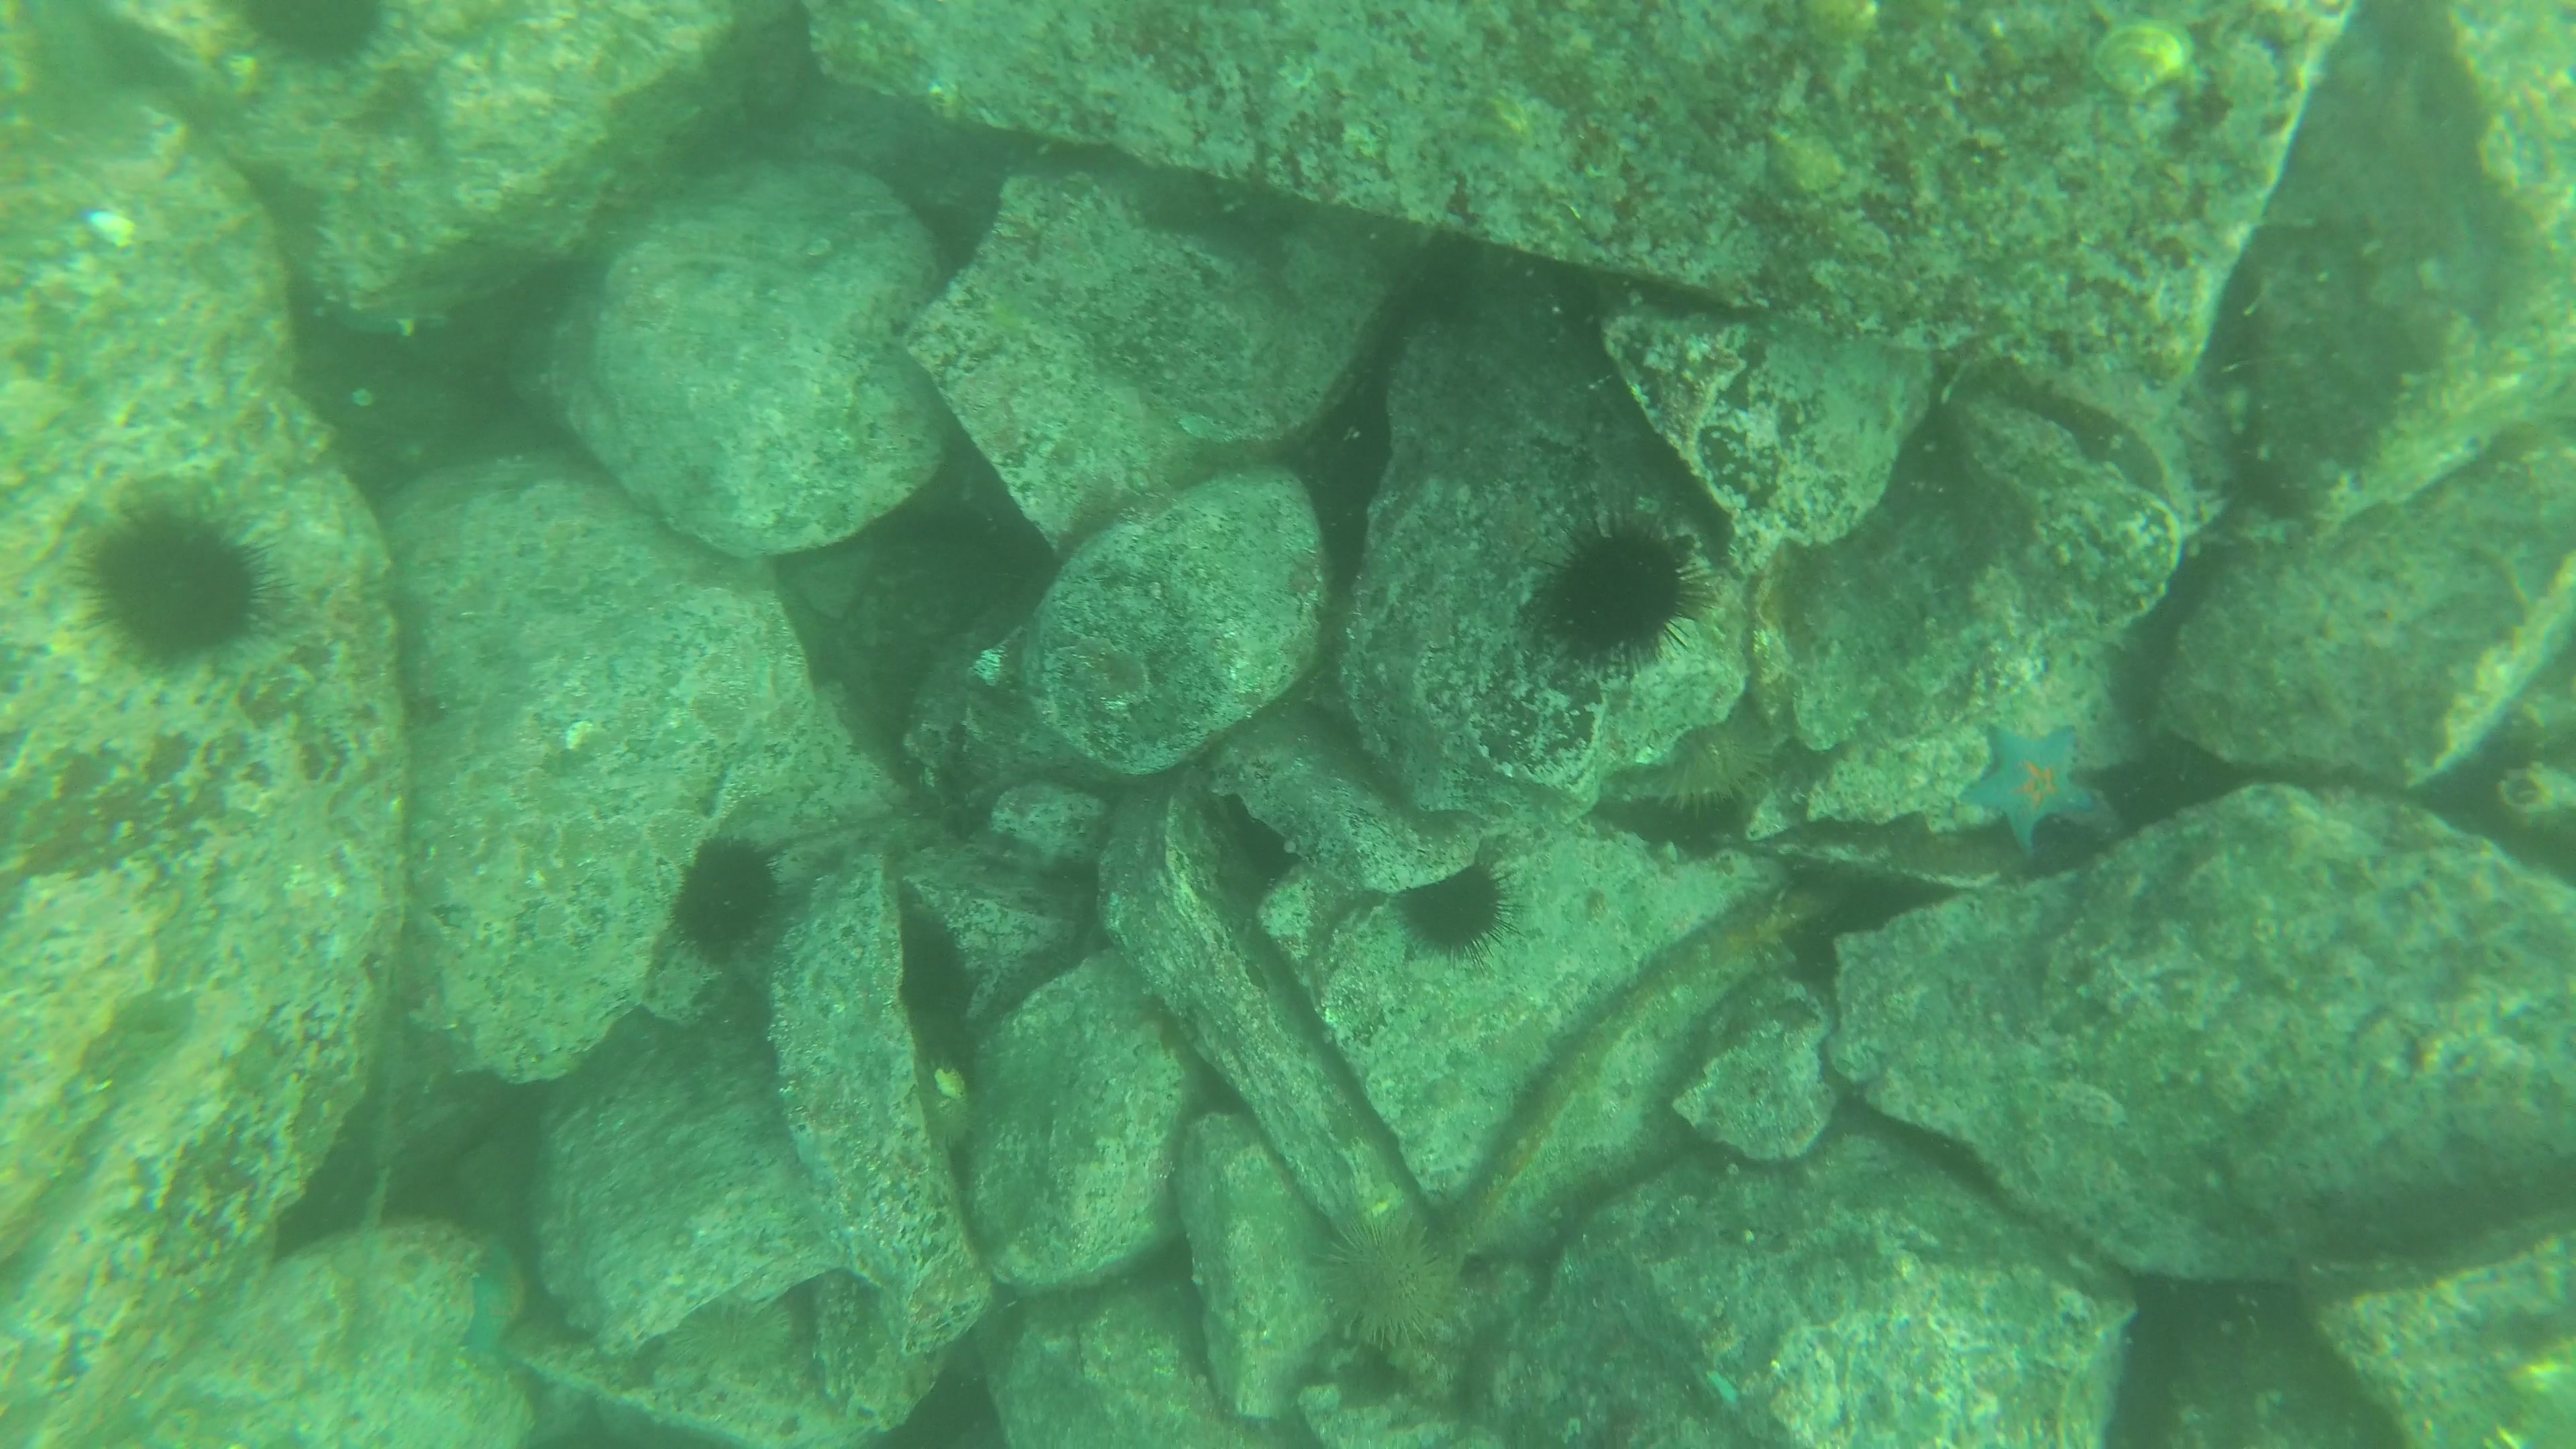echinus: (80, 502, 264, 667), (1534, 511, 1690, 669), (671, 840, 775, 962), (1398, 863, 1506, 955)
starfish: (1955, 720, 2109, 856)
